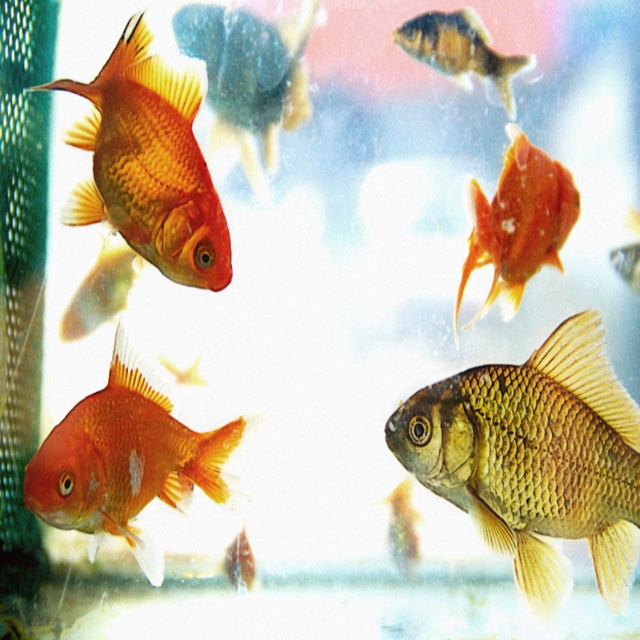Goldfish: (386, 301, 639, 617), (24, 313, 269, 588), (29, 10, 230, 284), (455, 122, 582, 347), (395, 5, 539, 125)
